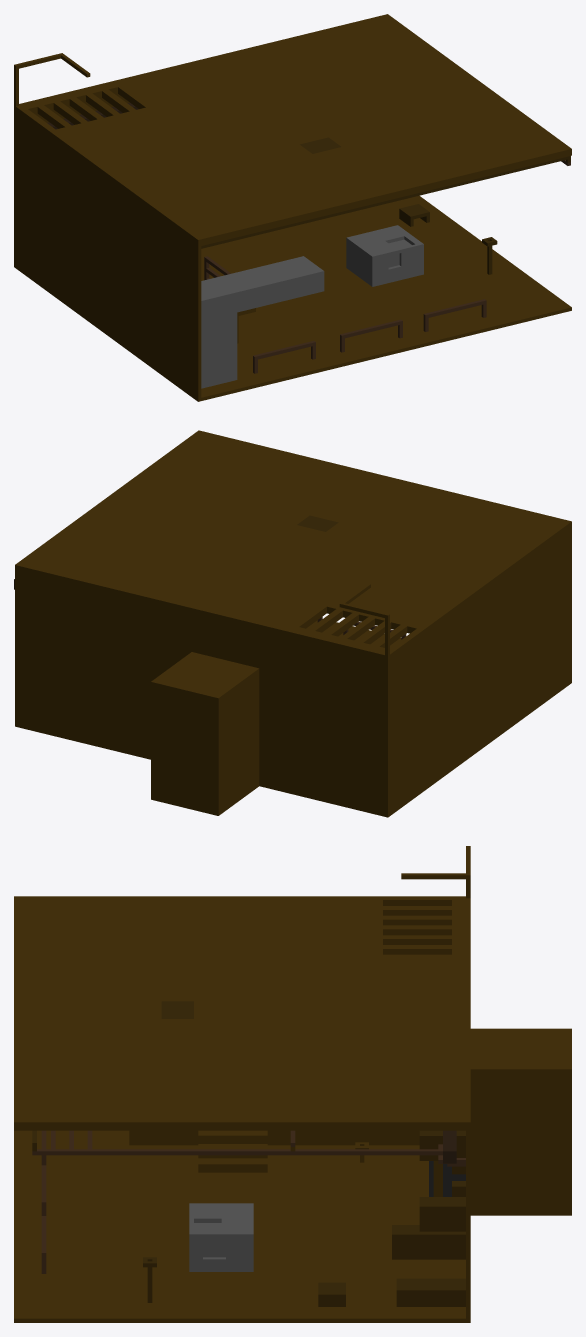
Rendered from room.obj.
3 renders of one model, top to bottom at view 1: azimuth 30°, elevation 25°; view 2: azimuth 150°, elevation 25°; view 3: azimuth 270°, elevation 25°, orthographic. The views are drawn at different scales.
Bounding box in the file's own units: 11.8 × 6 × 12.1.
